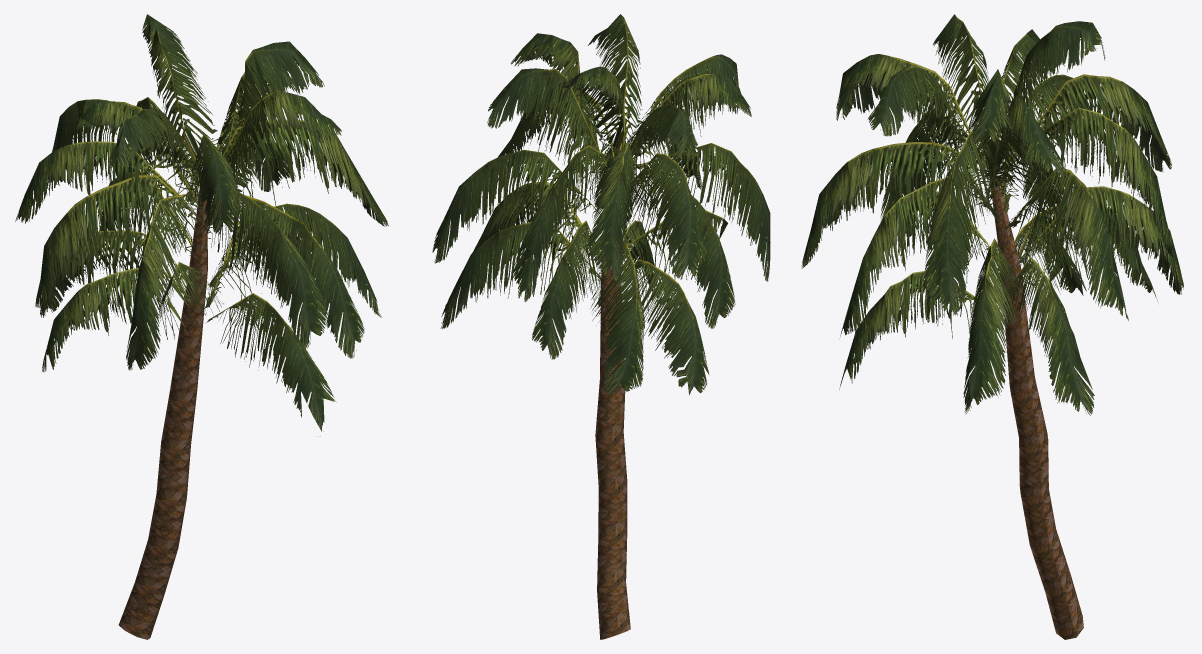
File: Palm 2.FBX
The picture shows the model from 3 angles, left to right: view 1: azimuth 30°, elevation 25°; view 2: azimuth 150°, elevation 25°; view 3: azimuth 270°, elevation 25°; orthographic projection. The views are drawn at different scales.
Parts seen in each view (by area): view 1: Palm 2; view 2: Palm 2; view 3: Palm 2.
Part boxes in pixels (left/top/right/bottom): Palm 2: left=15, top=14, right=388, bottom=639; Palm 2: left=432, top=14, right=770, bottom=639; Palm 2: left=801, top=14, right=1183, bottom=639.
Size of the model in its own units: 524 by 965 by 545.
2 materials, 2 textured.
